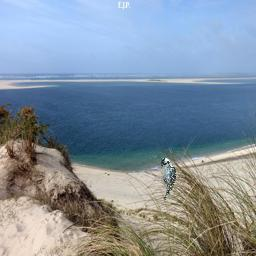Woodpecker: (161, 158, 177, 200)
